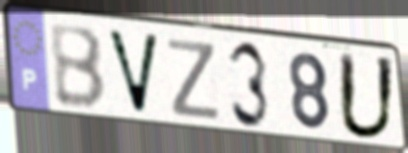3: (225, 39, 278, 132)
8: (287, 51, 333, 133)
B: (46, 24, 109, 113)
U: (335, 49, 398, 143)
V: (103, 26, 162, 119)
Z: (165, 36, 223, 123)
